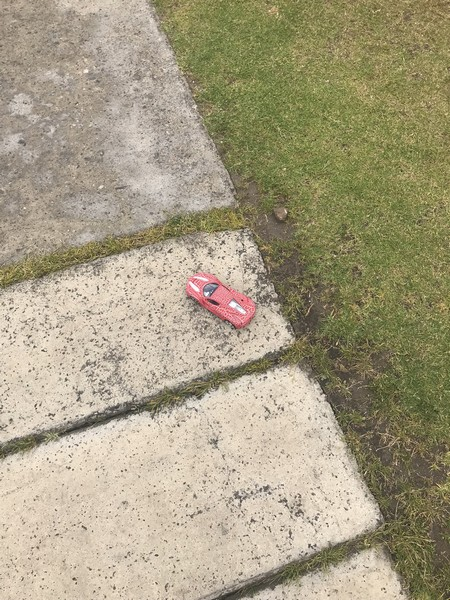RC: (184, 270, 256, 331)
